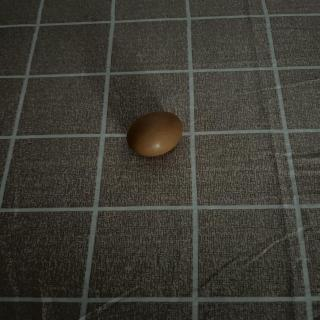Telur: (124, 111, 186, 159)
